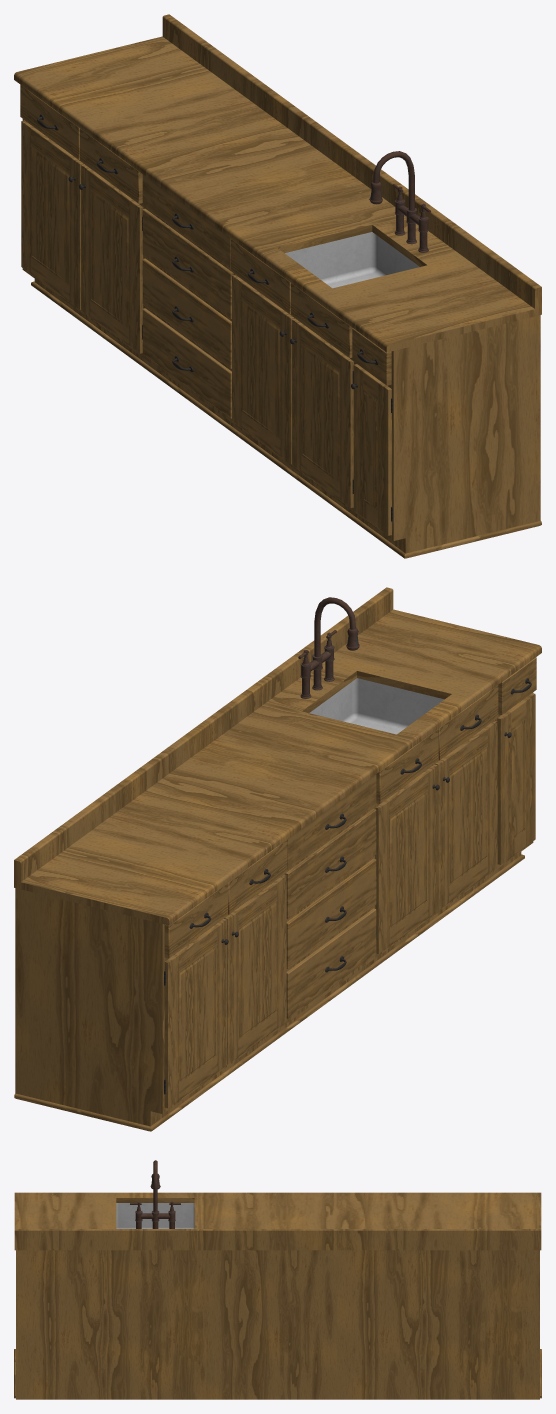
File: kitchen_cabinet_counter_03.fbx
The picture shows the model from 3 angles, top to bottom: view 1: azimuth 30°, elevation 25°; view 2: azimuth 150°, elevation 25°; view 3: azimuth 270°, elevation 25°; orthographic projection. The views are drawn at different scales.
Visible parts, largest first — view 1: klitchen_cabinet_small_main; view 2: klitchen_cabinet_small_main; view 3: klitchen_cabinet_small_main.
Boxes of the visible parts, x1,y1,x2,y2 form: klitchen_cabinet_small_main: (14, 14, 541, 558); klitchen_cabinet_small_main: (14, 587, 541, 1131); klitchen_cabinet_small_main: (14, 1160, 541, 1399).
Bounding box in the file's own units: 70.7 × 131 × 284.
